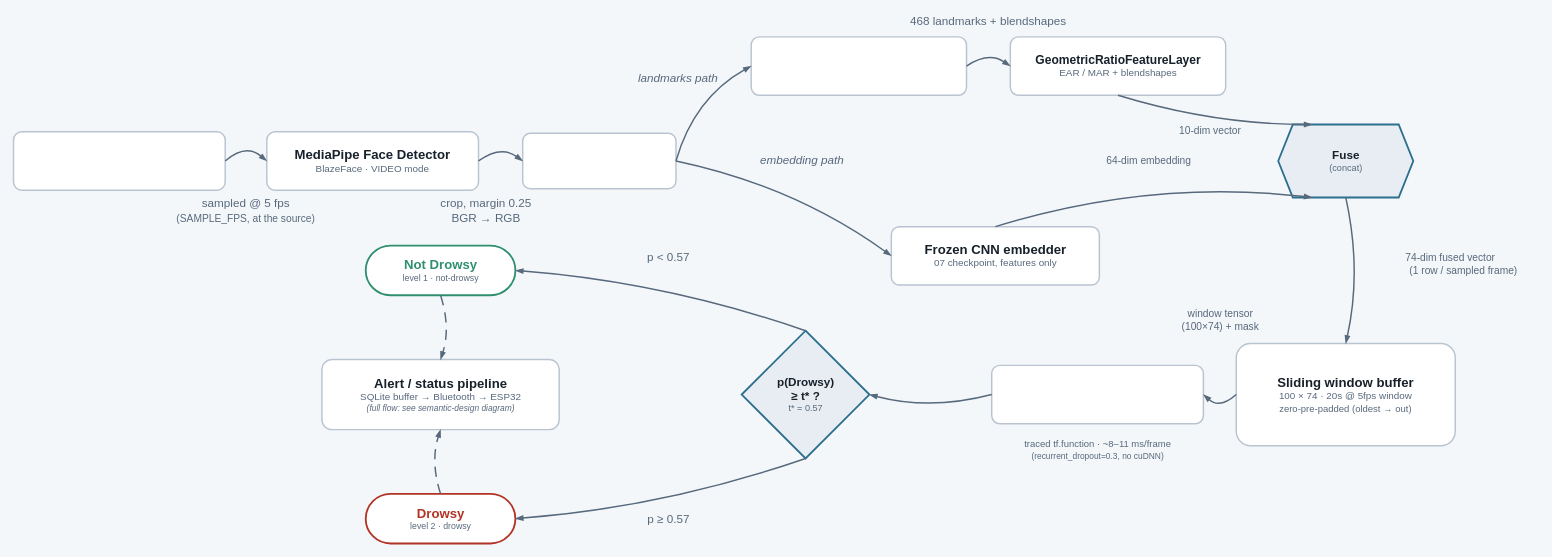
Image size: 1552x557. Some labels were removed from this diagram. The shapes that lost their labels are listed below. From the top down, each one's centre as x and y in pixels, then its label:
[858,66]: MediaPipe FaceLandmarker IMAGE mode, on the crop
[119,161]: Camera / video source cv2.VideoCapture / PiCamera2
[599,160]: Face crop (RGB) (fork point)
[1097,394]: Fused LSTM classifier Norm → LSTM → Dropout → Dense
